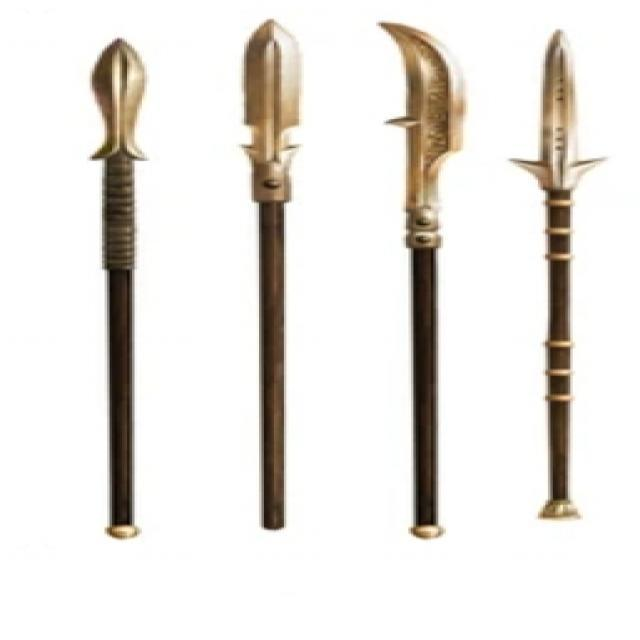spear: (506, 24, 620, 547), (372, 8, 474, 545), (219, 14, 313, 542), (79, 19, 151, 550)
